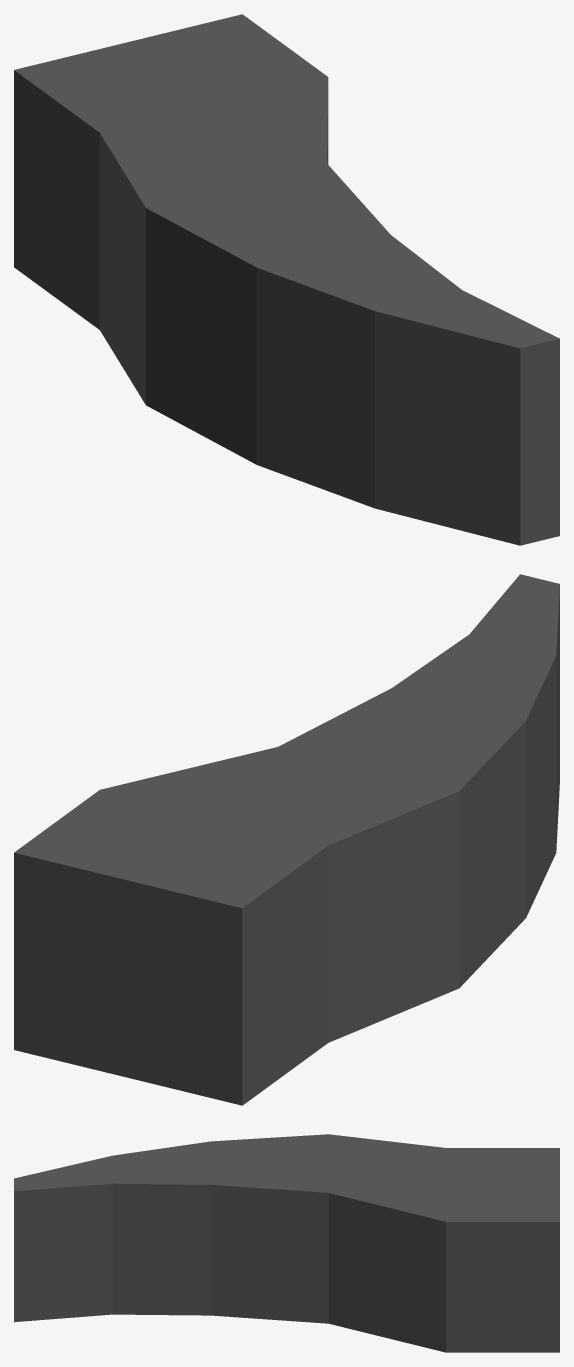
The model's file is SniperRifle6_02_4.fbx.
The picture shows the model from 3 angles, top to bottom: view 1: azimuth 30°, elevation 25°; view 2: azimuth 150°, elevation 25°; view 3: azimuth 270°, elevation 25°; orthographic projection. The views are drawn at different scales.
Parts seen in each view (by area): view 1: SniperRifle6_02_4; view 2: SniperRifle6_02_4; view 3: SniperRifle6_02_4.
Part boxes in pixels (box(x1,y1,x2,y2)): SniperRifle6_02_4: box(14, 14, 559, 545); SniperRifle6_02_4: box(14, 574, 559, 1105); SniperRifle6_02_4: box(14, 1134, 559, 1352).
Bounding box in the file's own units: 0.0103 × 0.00714 × 0.027.
